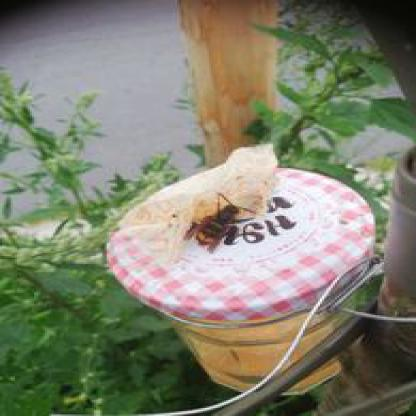Asian Hornet: (180, 186, 264, 252)
